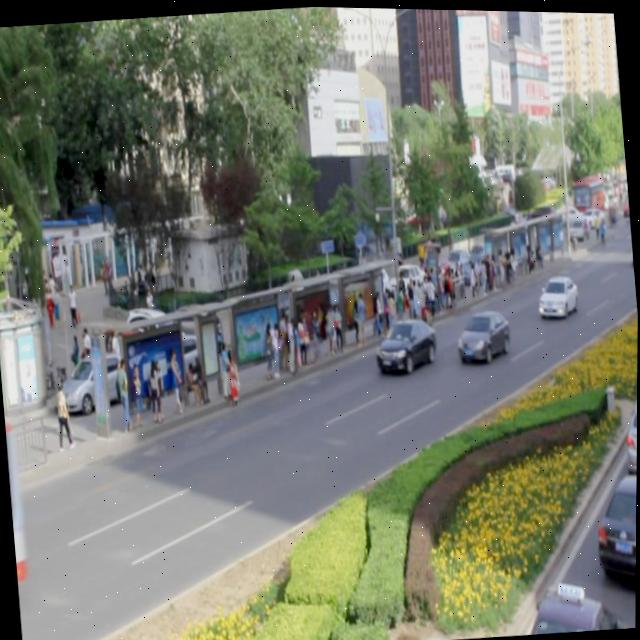car: (374, 311, 439, 372), (454, 305, 512, 360), (534, 269, 577, 316)
